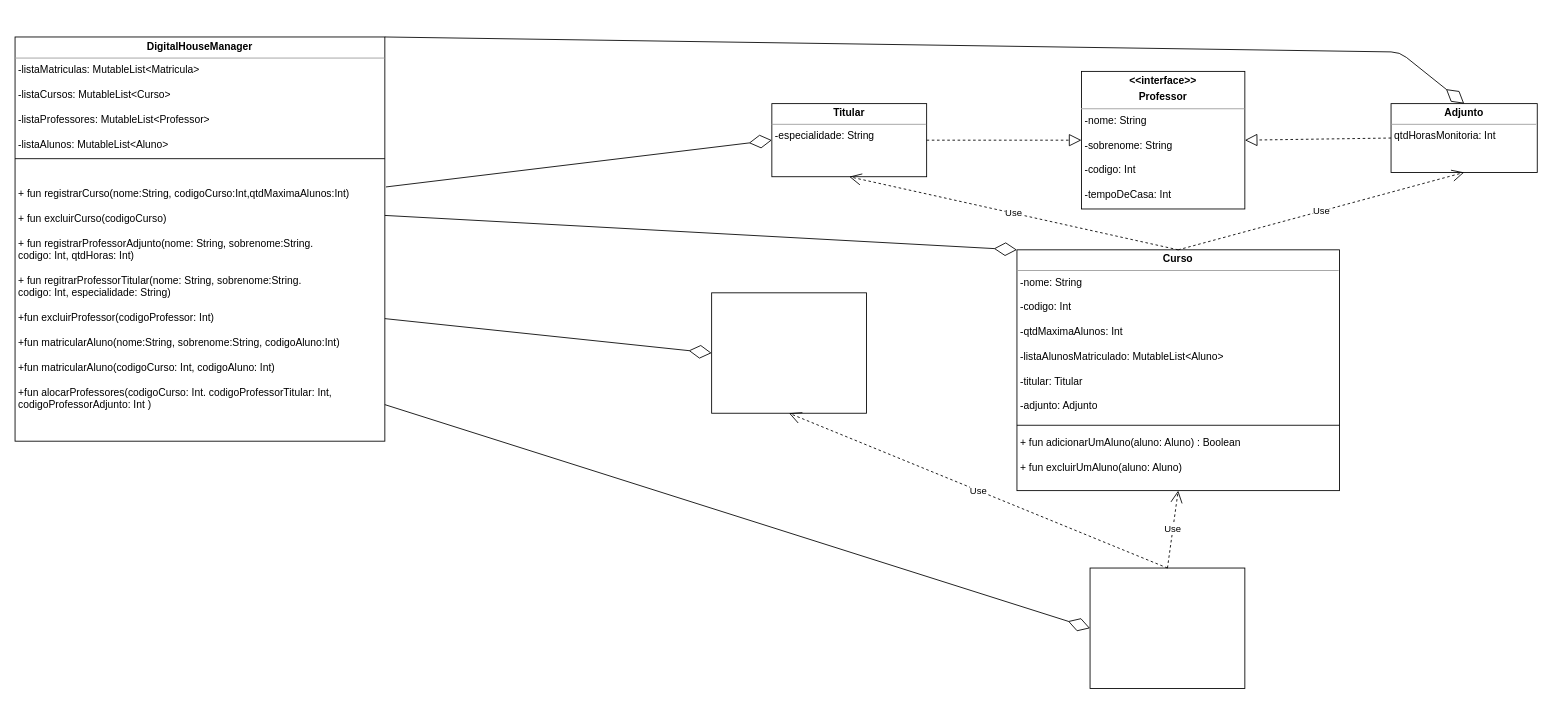
This 1552x703 diagram has some shape labels left out. The centre of each missing label's shape, as x and y in pixels:
Aluno -nome: String -sobrenome: String -codigo: Int: (788,352)
Matricula -aluno: Aluno -curso: Curso -data: Date: (1167,627)
